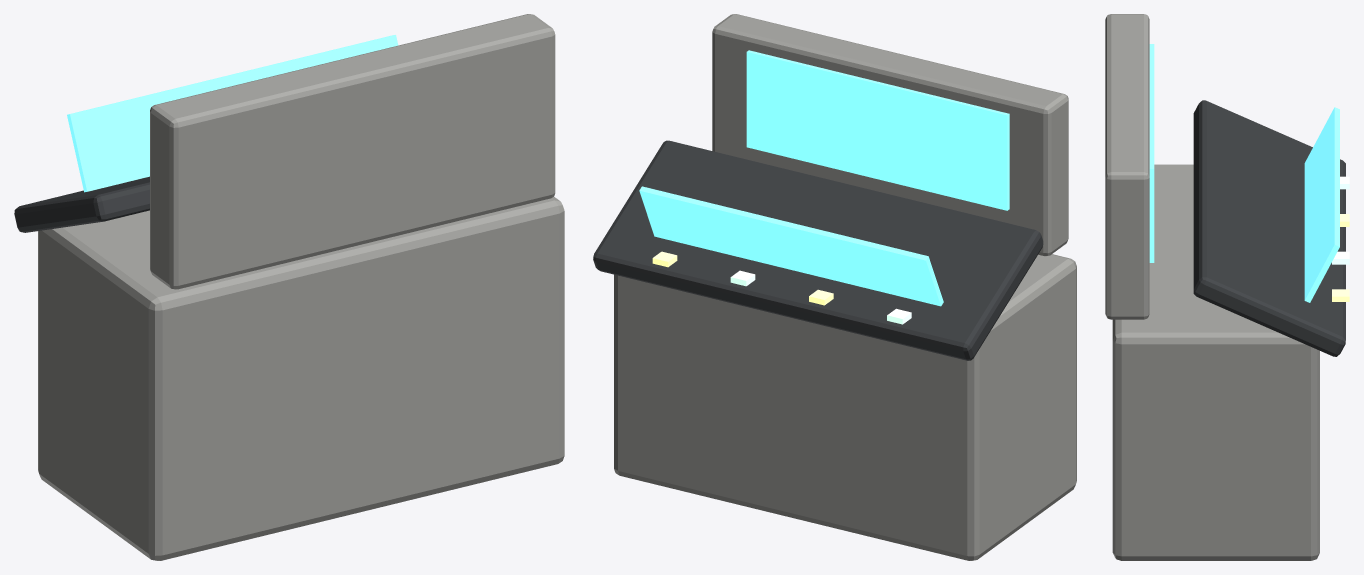
File: console.glb
3 renders of one model, left to right at view 1: azimuth 30°, elevation 25°; view 2: azimuth 150°, elevation 25°; view 3: azimuth 270°, elevation 25°, orthographic. The views are drawn at different scales.
Parts seen in each view (by area): view 1: console; view 2: console; view 3: console.
Part boxes in pixels (bbox=[...]): console: bbox=[14, 14, 564, 560]; console: bbox=[593, 14, 1076, 560]; console: bbox=[1105, 14, 1349, 560].
Bounding box in the file's own units: 1.45 × 1.43 × 0.825.
